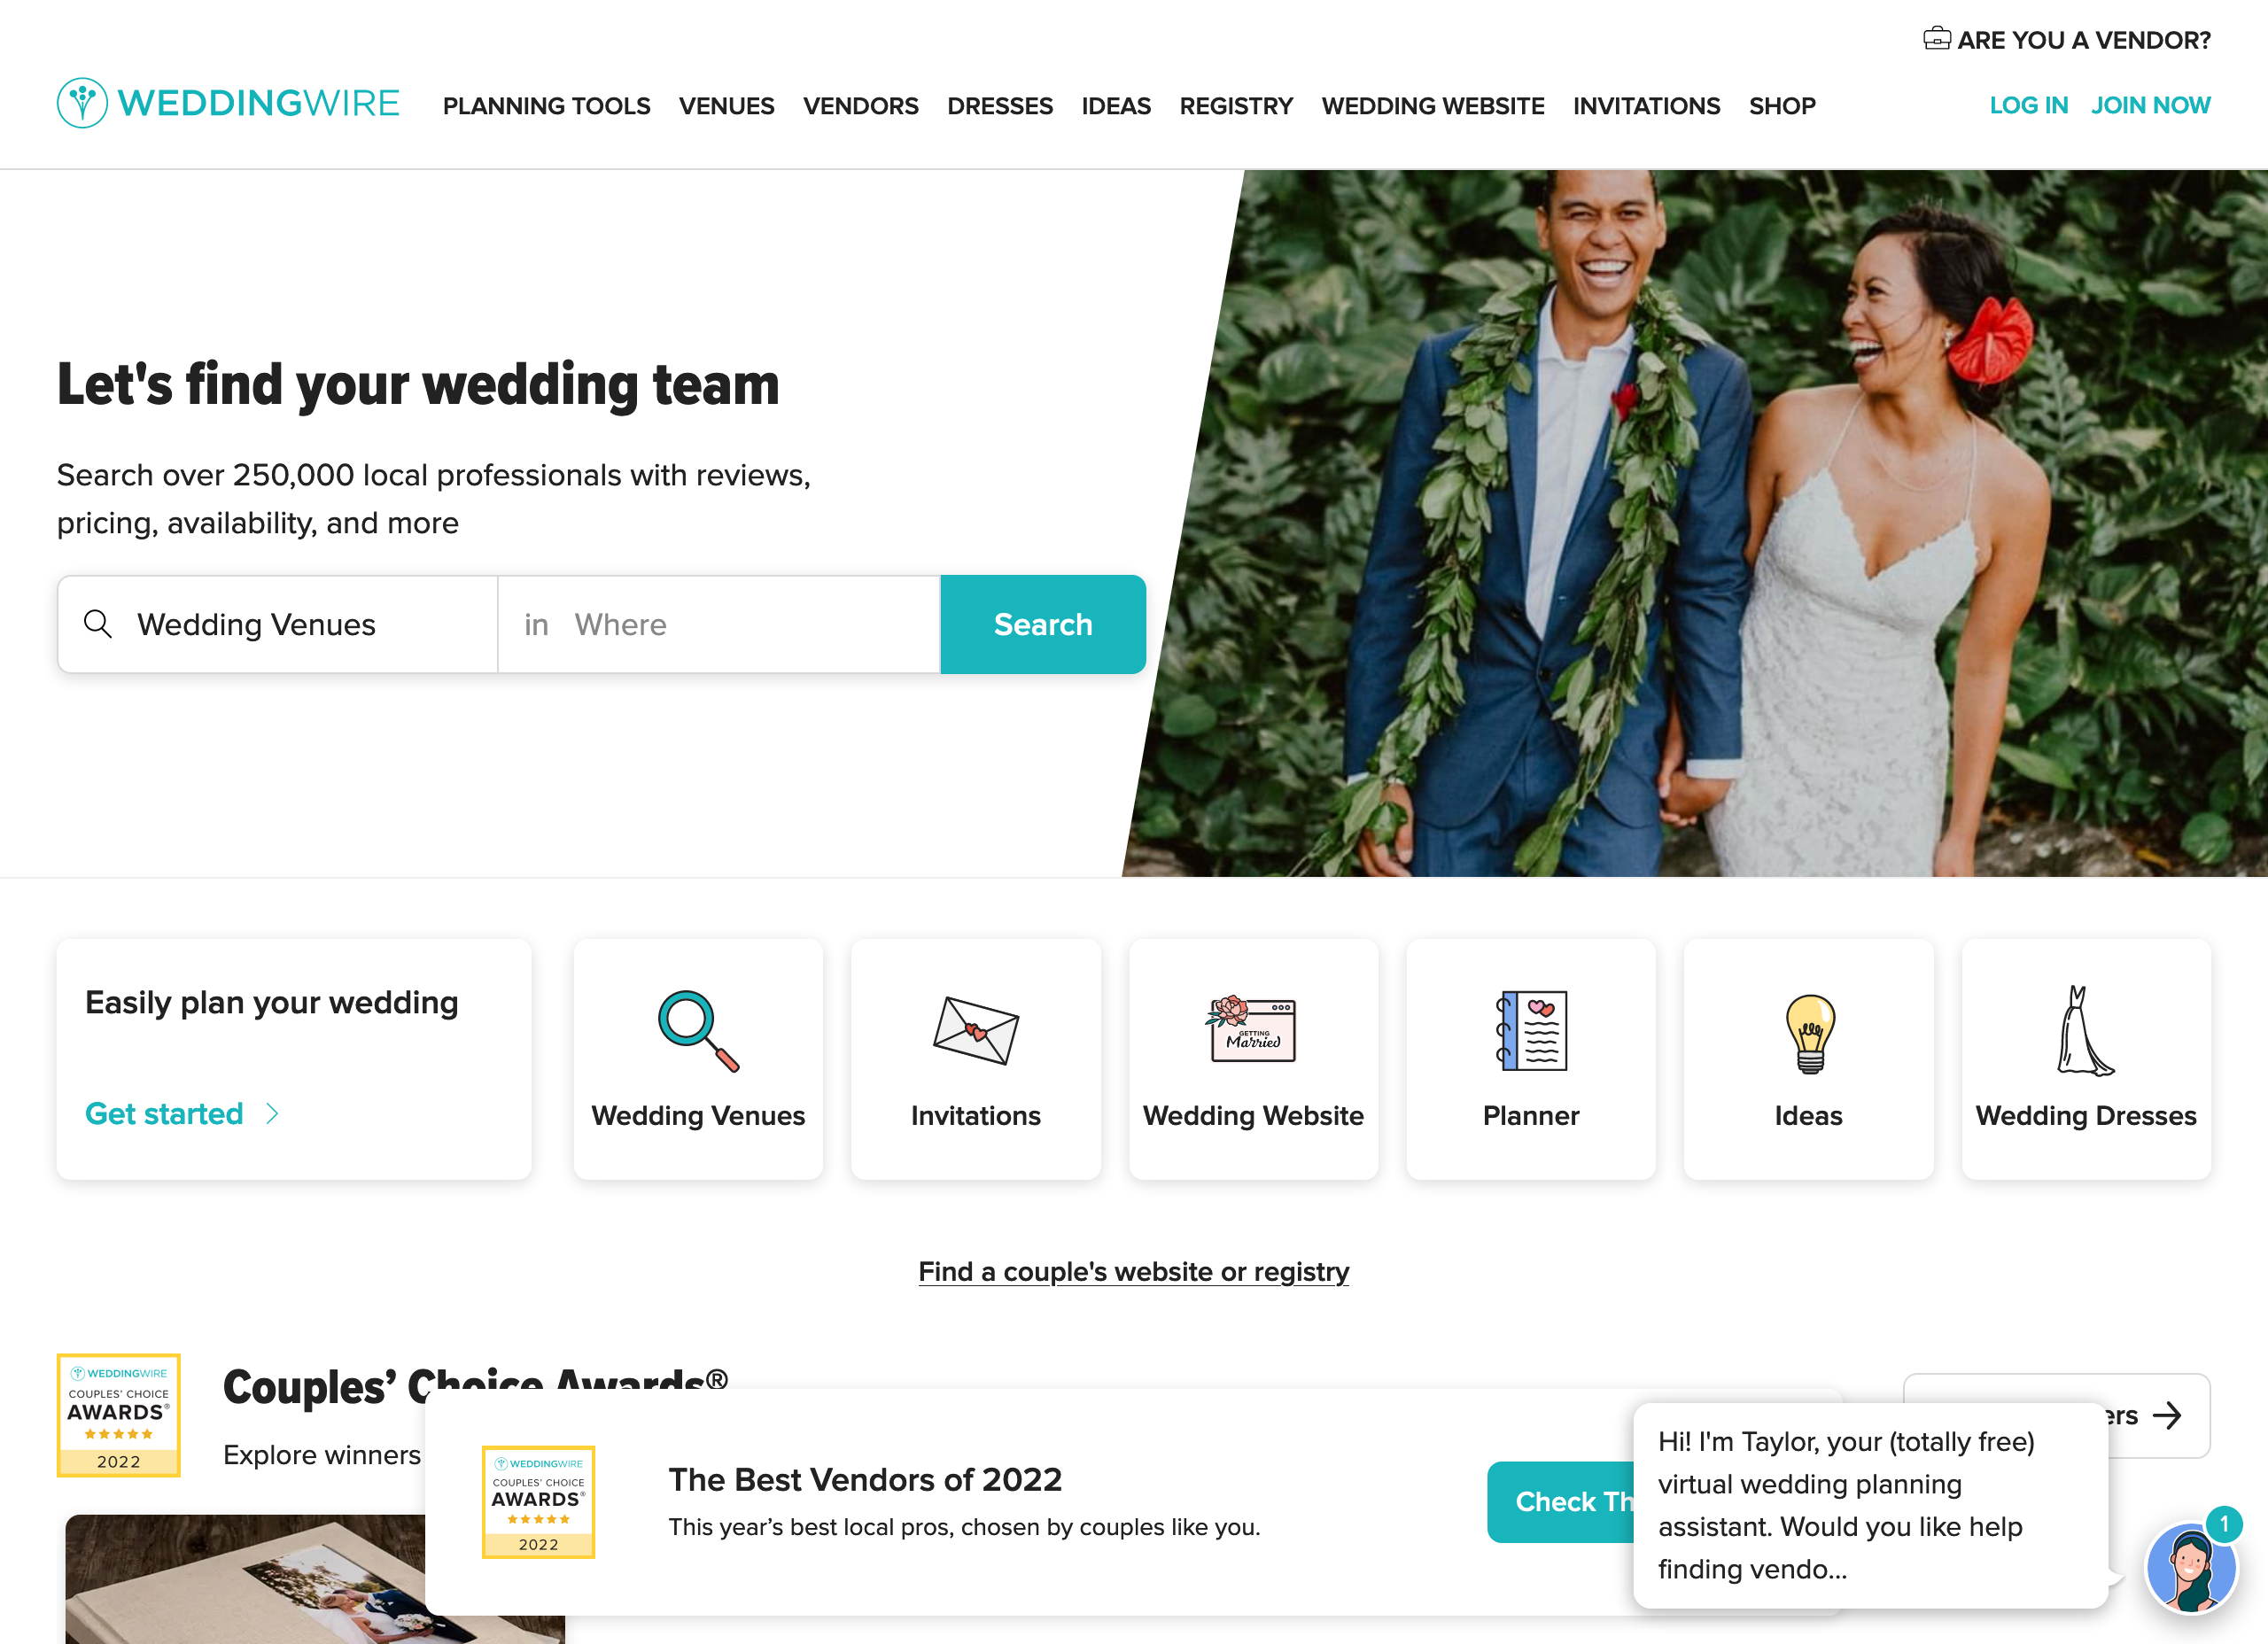Login: (1979, 77, 2080, 132)
